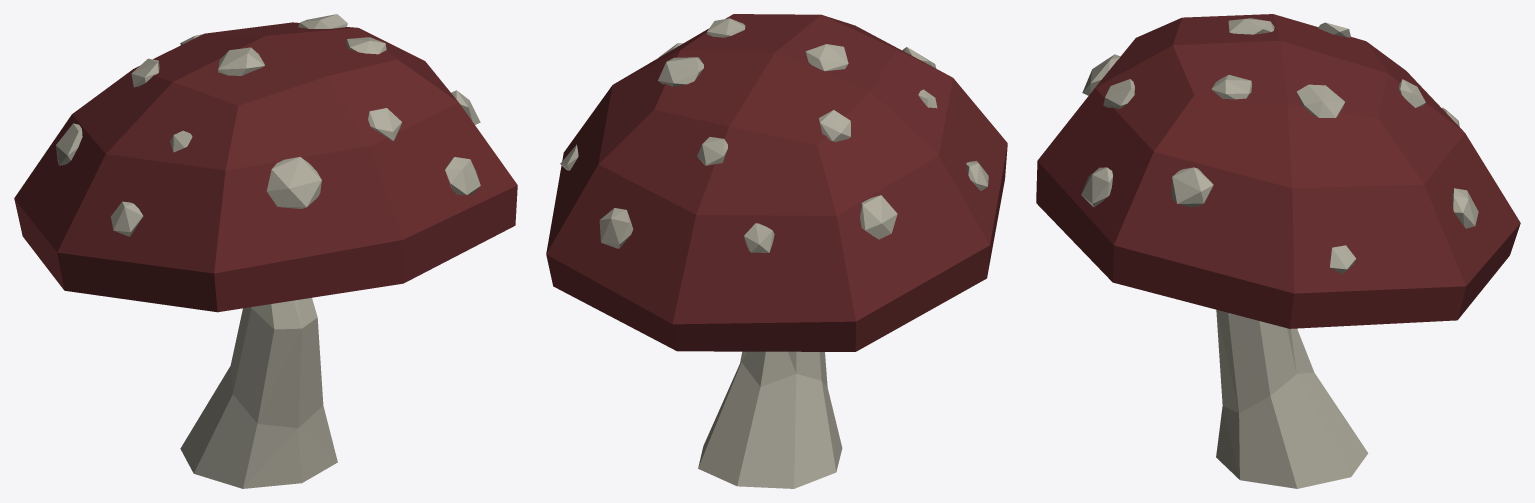
The model's file is Mushrooms.fbx.
3 renders of one model, left to right at view 1: azimuth 30°, elevation 25°; view 2: azimuth 150°, elevation 25°; view 3: azimuth 270°, elevation 25°, orthographic. The views are drawn at different scales.
Visible parts, largest first — view 1: rock.008; view 2: rock.008; view 3: rock.008.
Part boxes in pixels (bbox=[...]): rock.008: bbox=[14, 14, 517, 488]; rock.008: bbox=[546, 14, 1007, 488]; rock.008: bbox=[1036, 14, 1520, 488].
Bounding box in the file's own units: 0.2799 × 0.2651 × 0.2767.
